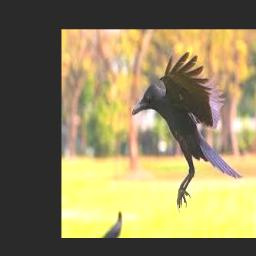Crow: (132, 52, 244, 213)
